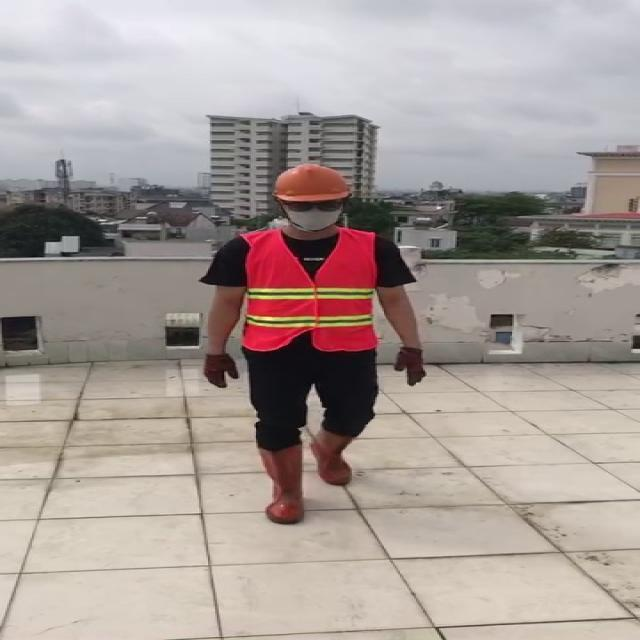boots: (254, 440, 310, 520), (309, 432, 351, 484)
gloves: (202, 352, 237, 388), (394, 347, 426, 385)
hard-hat: (272, 162, 352, 232), (272, 163, 352, 203)
mask: (281, 202, 343, 233)
person: (197, 162, 426, 524)
vest: (234, 227, 386, 360)
